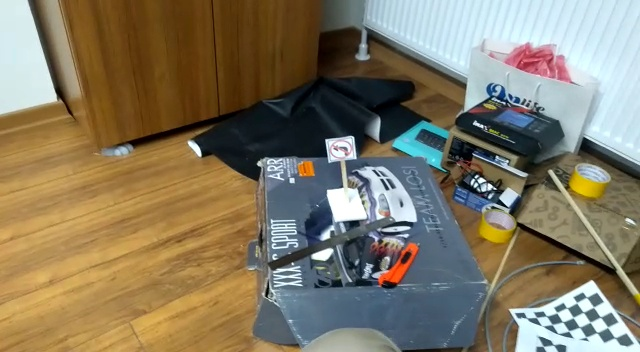sola_donulmez: (330, 135, 352, 159)
